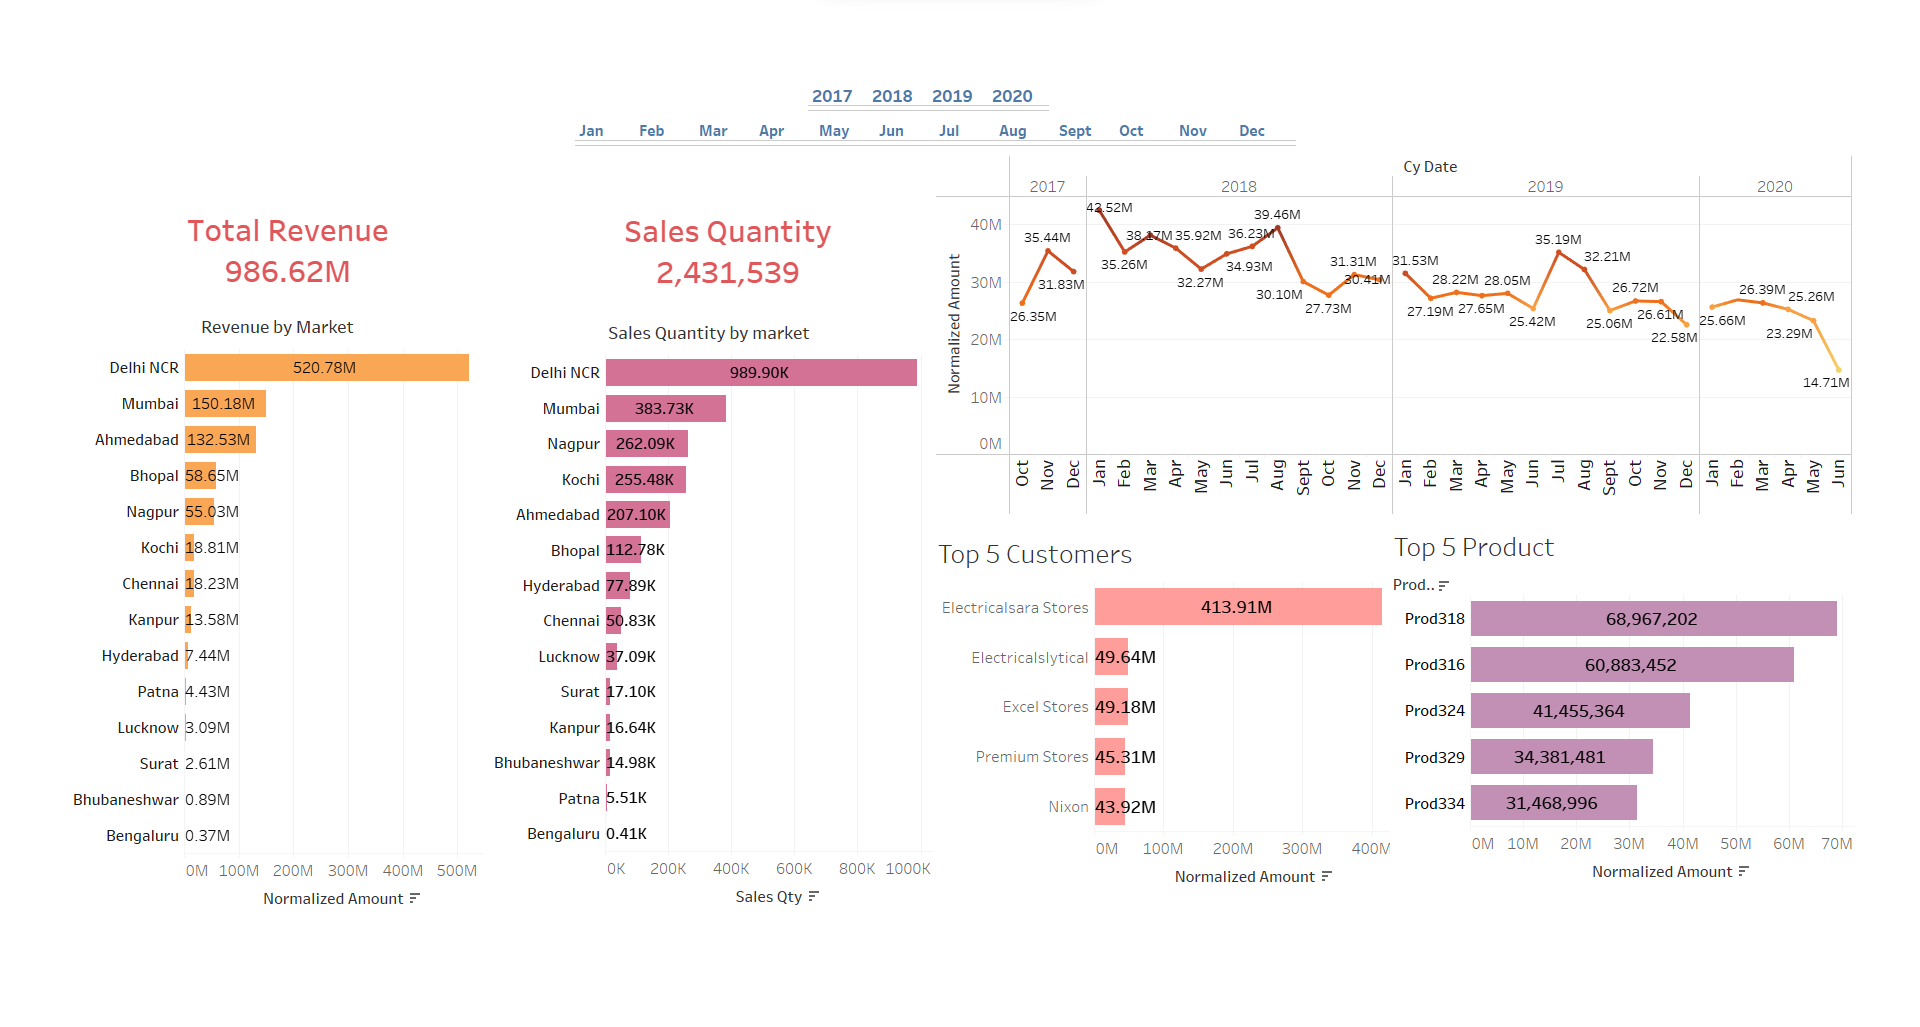

The dashboard page shown, as its layout file describes it:
{"tool":"tableau","page":{"name":"Dashboard 1","canvas":[1800,900],"ordinal":0},"visuals":[{"type":"worksheet","title":"Year","mark":"Automatic","cols":["cy_date"],"box":[748,14,316,43]},{"type":"worksheet","title":"Month","mark":"Automatic","cols":["cy_date"],"box":[515,49,906,44]},{"type":"worksheet","title":"Revenue by Year","mark":"Automatic","rows":["Calculation_97953335073222656"],"cols":["cy_date","cy_date"],"box":[876,85,917,359]},{"type":"worksheet","title":"Revenue","mark":"Automatic","box":[118,122,296,105]},{"type":"worksheet","title":"Sales Quantity","mark":"Automatic","box":[558,138,274,98]},{"type":"worksheet","title":"Revenue by Market","mark":"Automatic","rows":["markets_name"],"cols":["Calculation_97953335073222656"],"box":[12,239,411,606]},{"type":"worksheet","title":"Sales Quantity by market","mark":"Automatic","rows":["markets_name"],"cols":["sales_qty"],"box":[425,245,448,598]},{"type":"worksheet","title":"Top 5 Product ","mark":"Automatic","rows":["product_code"],"cols":["Calculation_97953335073222656"],"box":[1330,454,465,364]},{"type":"worksheet","title":"Top 5 Customers","mark":"Automatic","rows":["custmer_name"],"cols":["Calculation_97953335073222656"],"box":[874,461,462,362]}]}

Visuals, with their boxes on the page's 1800x900 design canvas (x1, y1, x2, y2). These are canvas units, not pixel positions in the 1920x1027 screenshot, which may show the page scaled, cropped or inside an application window:
"Year" worksheet: [748, 14, 1064, 57]
"Month" worksheet: [515, 49, 1421, 93]
"Revenue by Year" worksheet: [876, 85, 1793, 444]
"Revenue" worksheet: [118, 122, 414, 227]
"Sales Quantity" worksheet: [558, 138, 832, 236]
"Revenue by Market" worksheet: [12, 239, 423, 845]
"Sales Quantity by market" worksheet: [425, 245, 873, 843]
"Top 5 Product " worksheet: [1330, 454, 1795, 818]
"Top 5 Customers" worksheet: [874, 461, 1336, 823]
